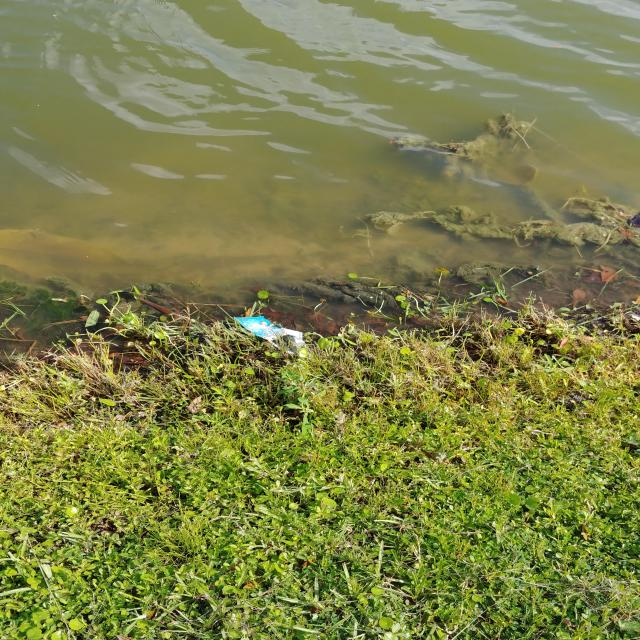litter: (234, 316, 306, 354)
